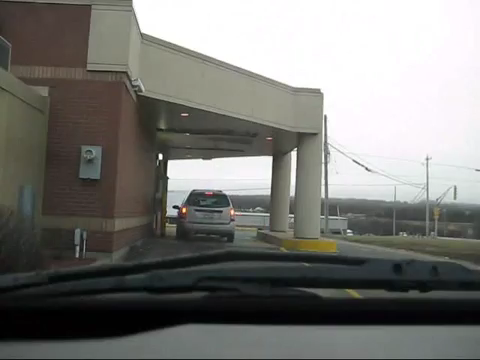car: (170, 185, 236, 242)
